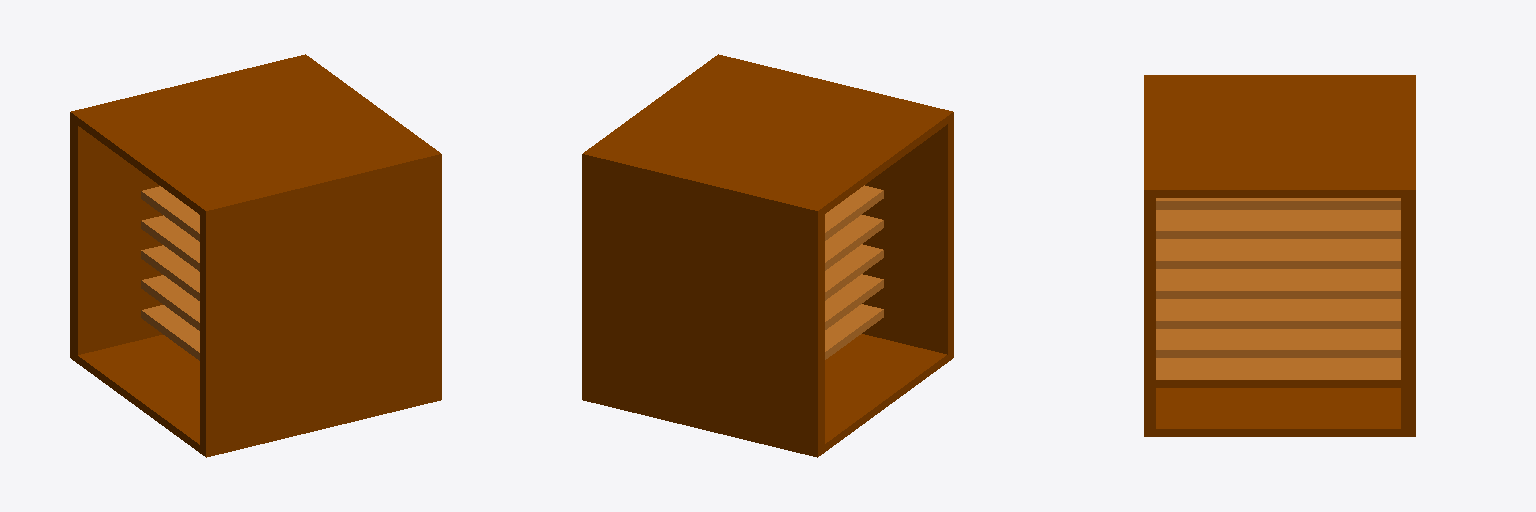
3 views of the same model, side by side, from view 1: azimuth 30°, elevation 25°; view 2: azimuth 150°, elevation 25°; view 3: azimuth 270°, elevation 25° (orthographic).
Parts seen in each view (by area): view 1: Mesh1 Group1 Model; view 2: Mesh1 Group1 Model; view 3: Mesh1 Group1 Model.
Part boxes in pixels (bbox=[...]): Mesh1 Group1 Model: bbox=[70, 54, 441, 457]; Mesh1 Group1 Model: bbox=[582, 54, 953, 457]; Mesh1 Group1 Model: bbox=[1144, 75, 1415, 436].
Bounding box in the file's own units: 5.12 × 5.12 × 5.12.
2 materials, 1 textured.